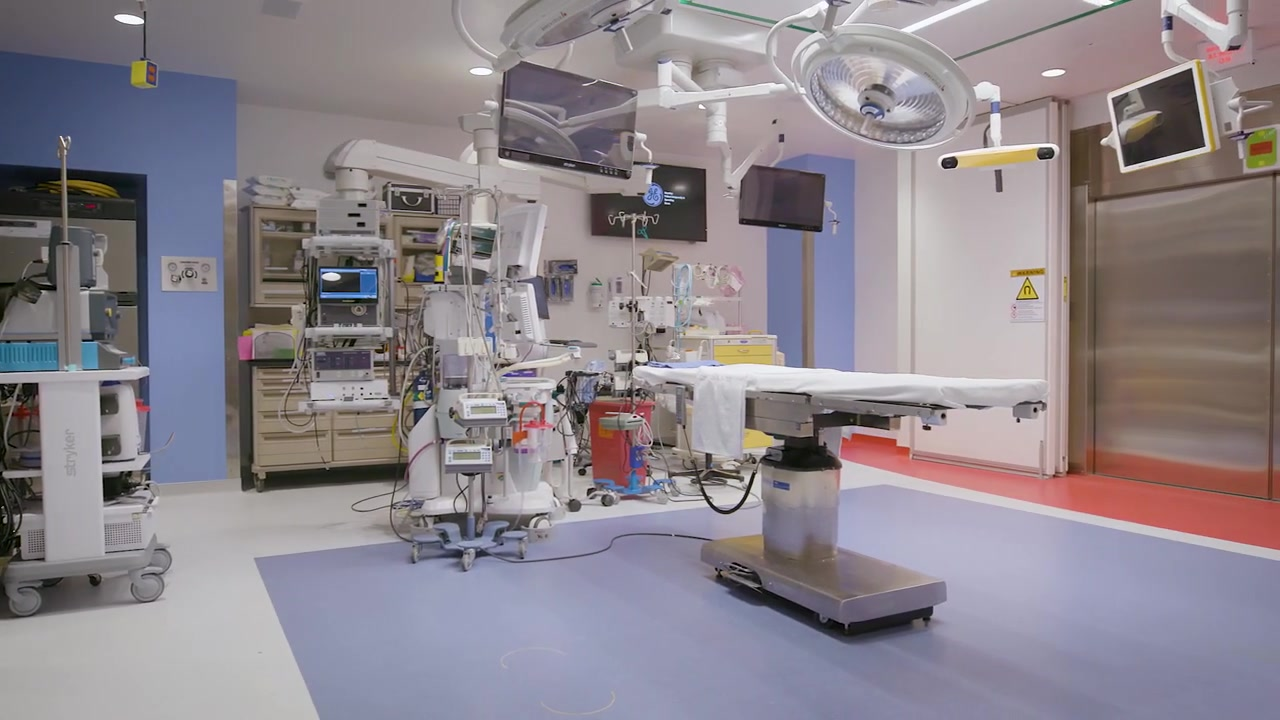bedside_monitor: (497, 60, 638, 180), (1111, 59, 1221, 174), (590, 161, 707, 242), (738, 164, 826, 232), (319, 266, 378, 303)
cabinet: (248, 204, 352, 299)
computer: (532, 274, 550, 320)
electrosurgical_unit: (1, 334, 155, 377)
handle: (737, 349, 749, 353)
iv_pole: (608, 210, 659, 447), (436, 184, 497, 337)
medical_drawer: (244, 349, 425, 467), (673, 330, 780, 461)
operating_bed: (632, 360, 1049, 637)
surgical_light: (791, 23, 977, 151)
syringe_pump: (445, 442, 496, 471), (458, 394, 509, 423)
waste_bin: (589, 400, 656, 499)
